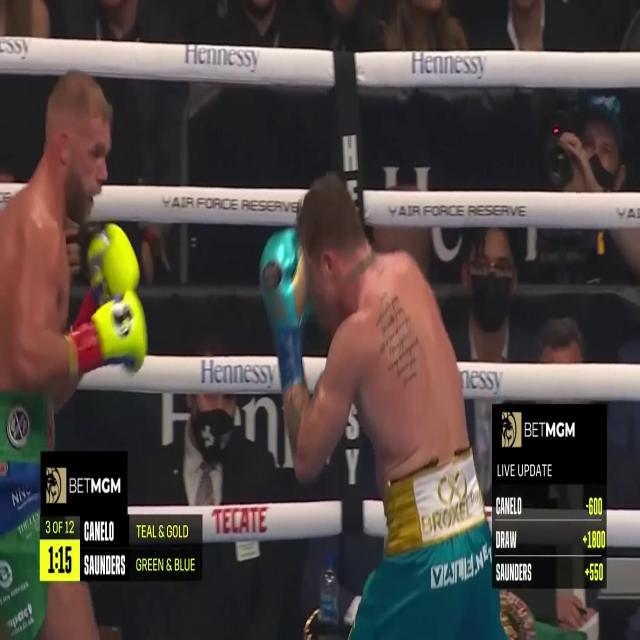boxer_1: (0, 74, 110, 408)
boxer_2: (283, 174, 469, 497)
gloves_1: (87, 222, 147, 370)
gloves_2: (260, 228, 305, 390)
